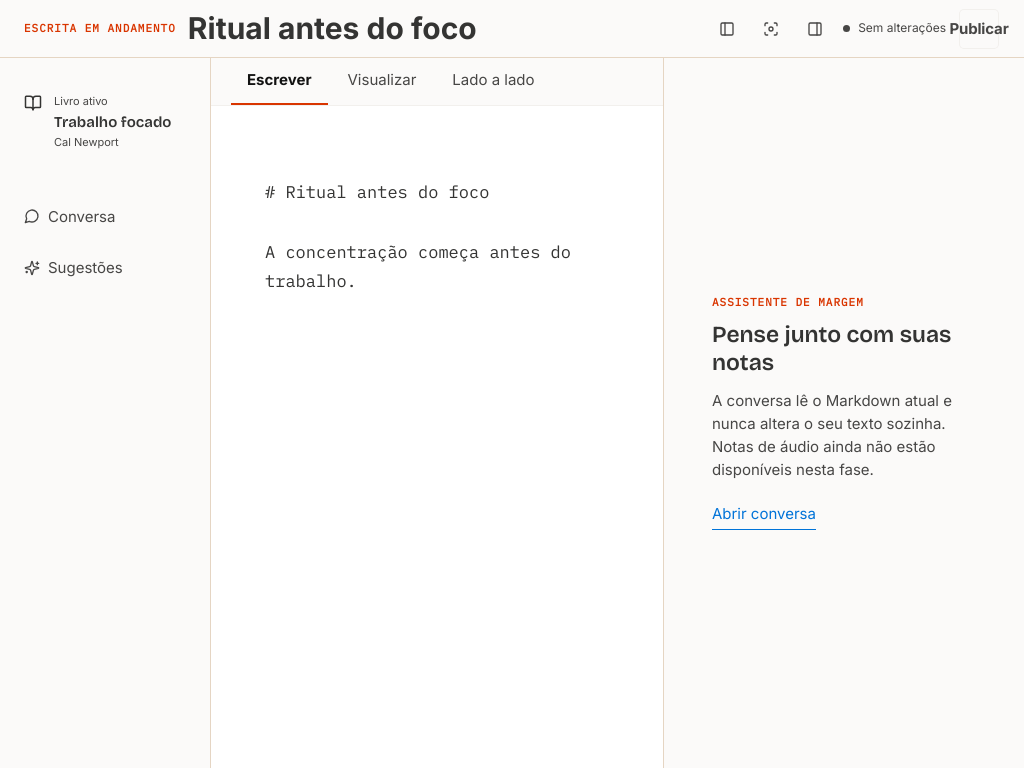
alterna entre escrita e preview mantendo o conteúdo
Step 1. Replace the text in the text box named "Conteúdo Markdown" with "# Atenção como escolha" → [437, 437], box [211,106,663,767]
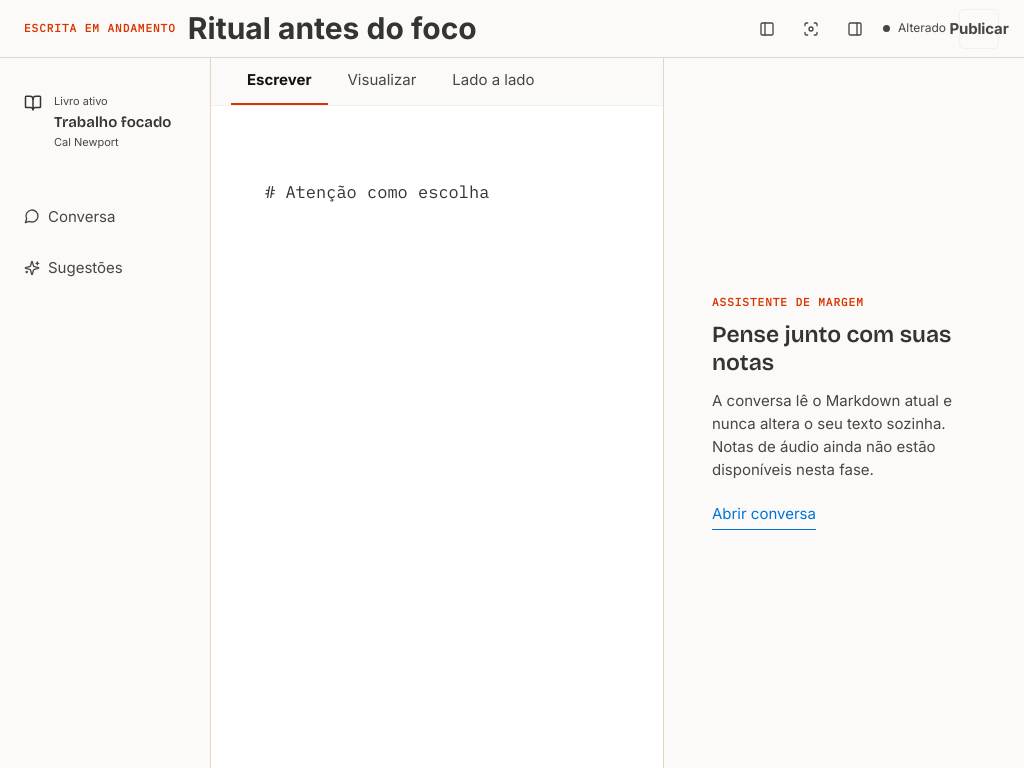
Step 2. Click the tab "Visualizar" → [382, 81], box [332,57,432,105]
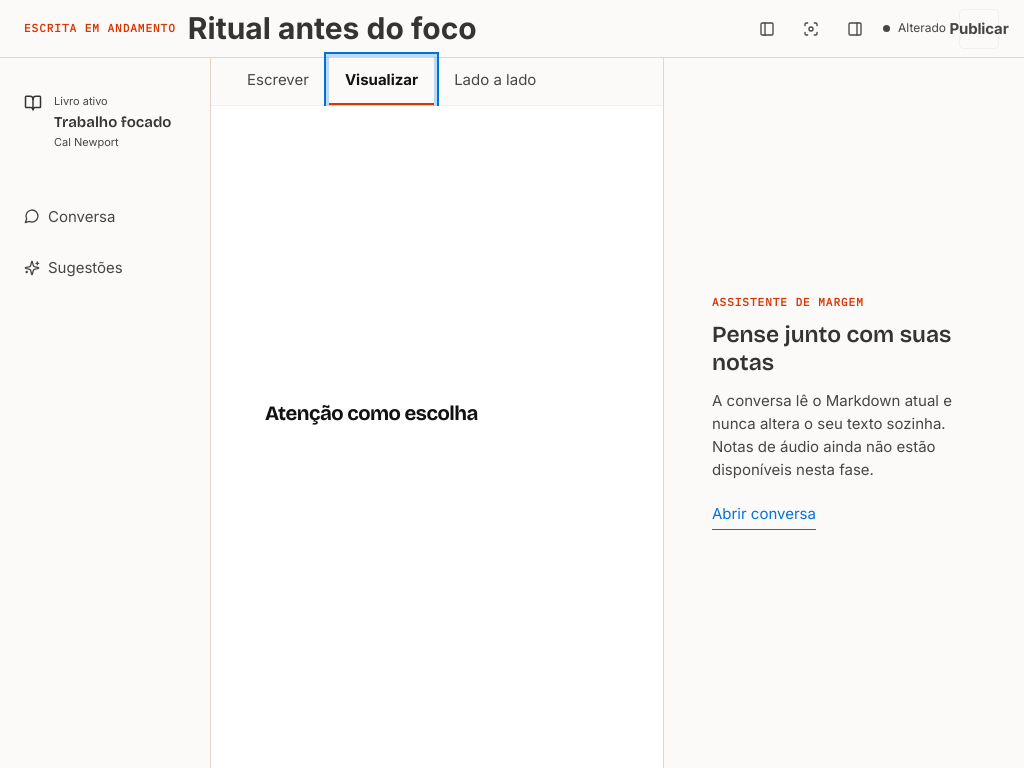
Expected: the heading "Atenção como escolha" is shown, [265,401,478,425]
Step 3. Click the tab "Escrever" → [278, 81], box [231,57,325,105]
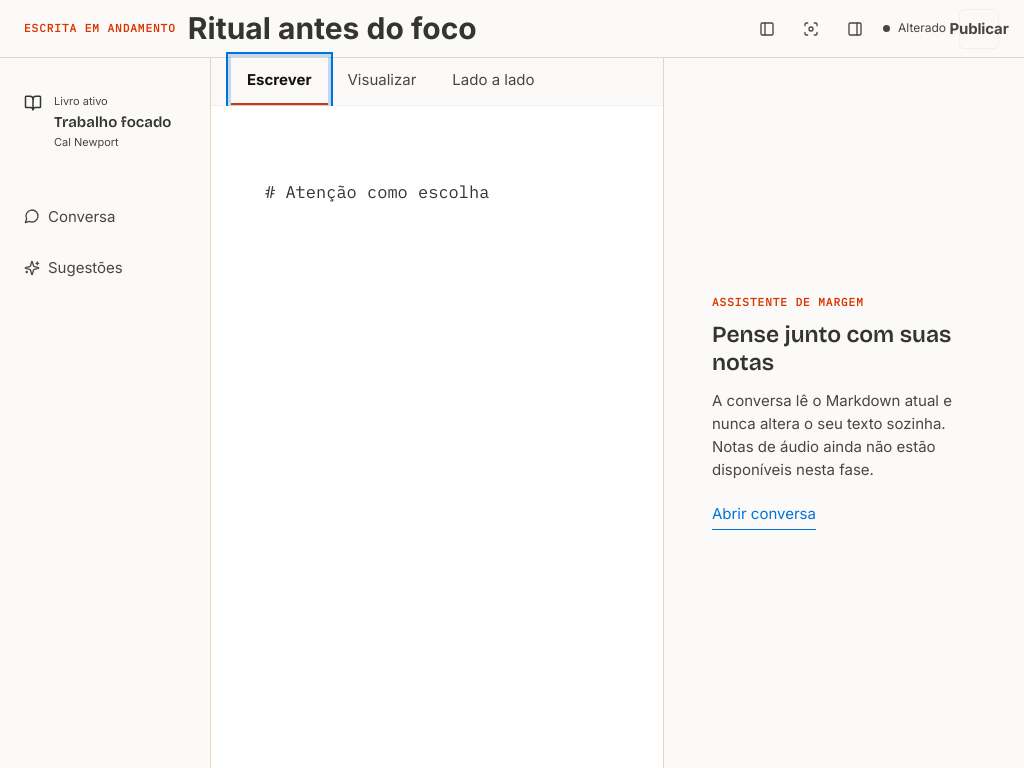
Expected: the text box named "Conteúdo Markdown" holds "# Atenção como escolha", [211,106,663,767]
